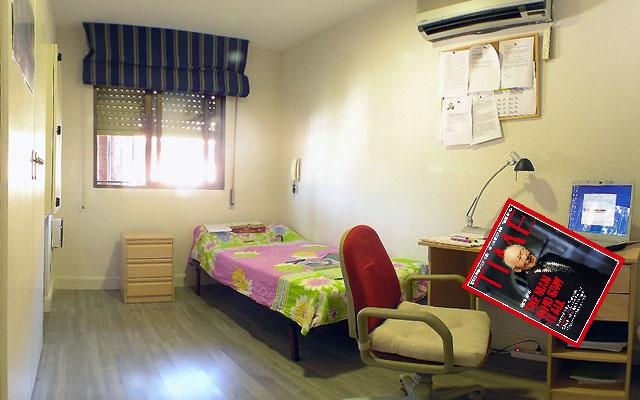times: (454, 200, 628, 351)
